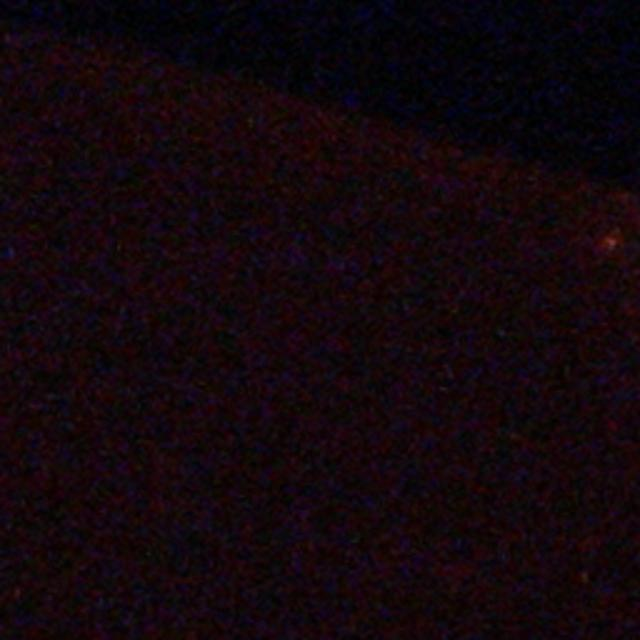Fragment: (600, 233, 622, 257)
